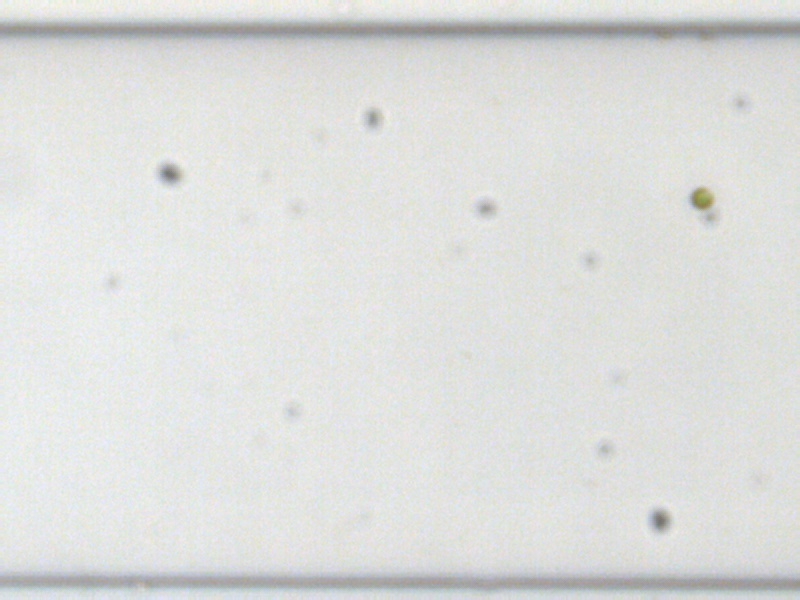Chlorella: (687, 187, 712, 210)
